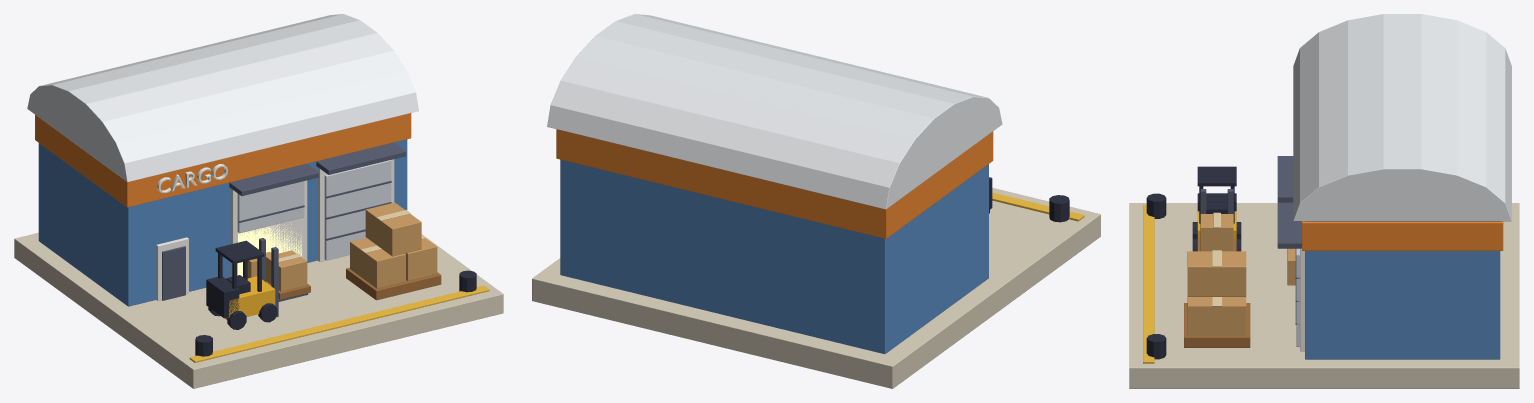
Rendered from warehouse.glb.
3 views of the same model, side by side, from view 1: azimuth 30°, elevation 25°; view 2: azimuth 150°, elevation 25°; view 3: azimuth 270°, elevation 25° (orthographic). The views are drawn at different scales.
Visible parts, largest first — view 1: Warehouse; view 2: Warehouse; view 3: Warehouse.
Part boxes in pixels (<box>): Warehouse: <box>14,14,503,388</box>; Warehouse: <box>532,14,1100,388</box>; Warehouse: <box>1129,14,1519,388</box>.
Bounding box in the file's own units: 2 × 1.22 × 2.
